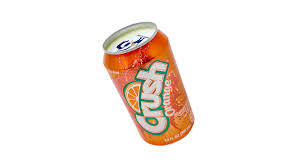can: (103, 19, 199, 148)
